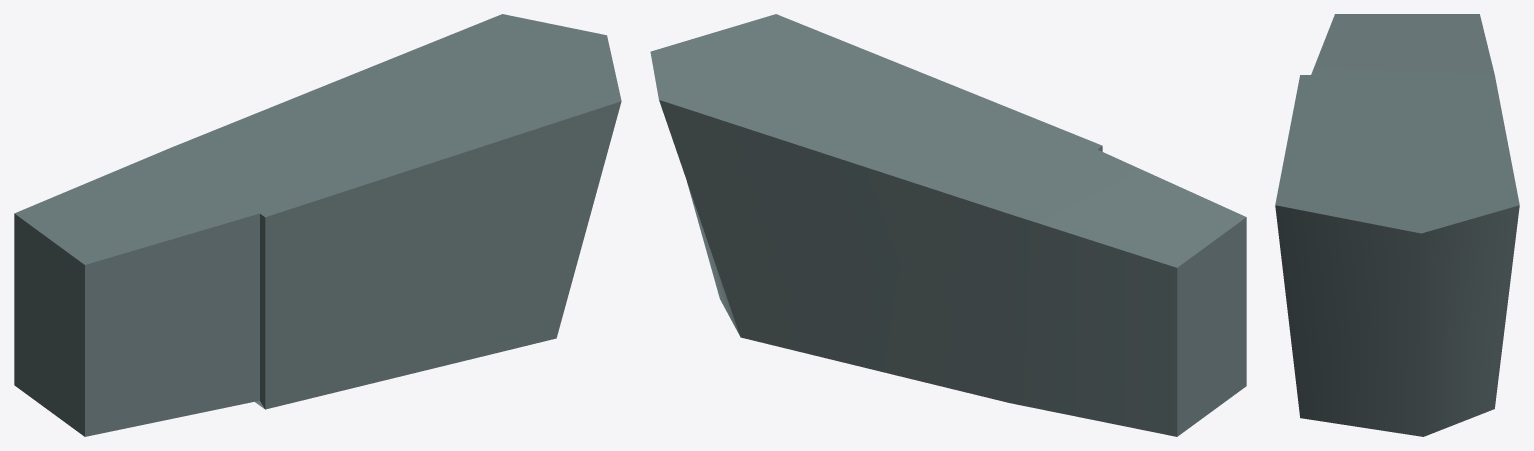
Rendered from floor6.fbx.
3 renders of one model, left to right at view 1: azimuth 30°, elevation 25°; view 2: azimuth 150°, elevation 25°; view 3: azimuth 270°, elevation 25°, orthographic. The views are drawn at different scales.
Parts seen in each view (by area): view 1: pCube1; view 2: pCube1; view 3: pCube1.
Boxes of the visible parts, x1,y1,x2,y2 form: pCube1: (14, 14, 621, 436); pCube1: (650, 14, 1246, 436); pCube1: (1275, 14, 1519, 436).
Bounding box in the file's own units: 3.43 × 1.36 × 1.26.
